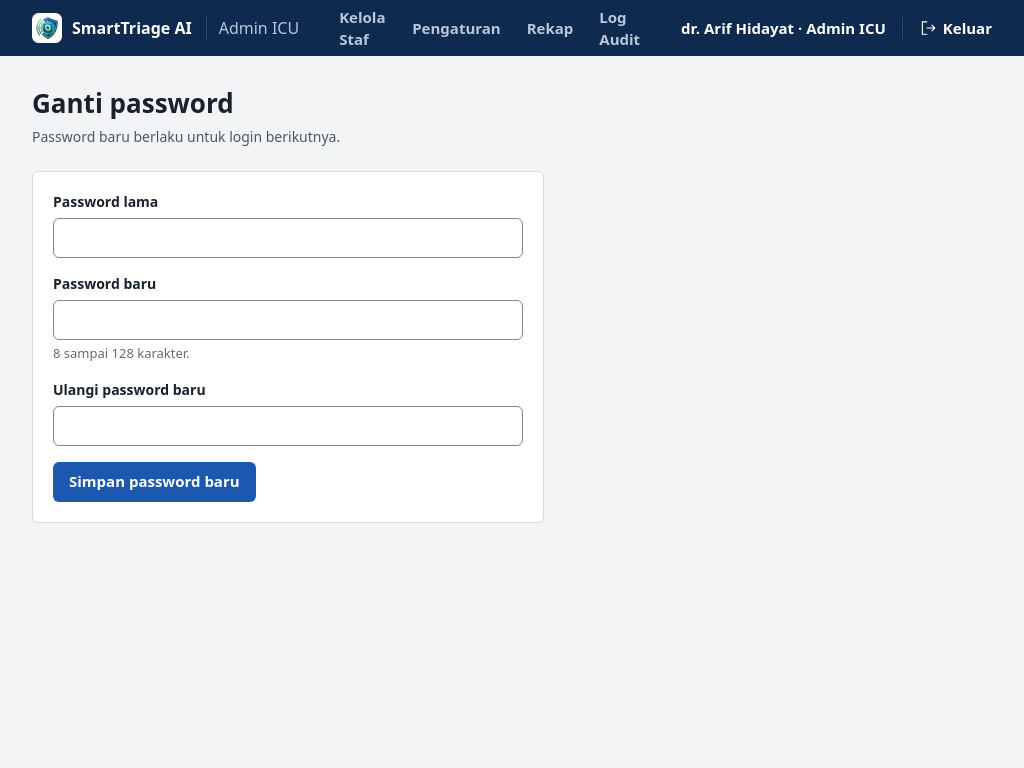
Test case: Ganti password › password baru harus berbeda dari yang lama
The width and height of the screenshot is (1024, 768).
In the password field labelled "Password lama": (288, 238) [53,218,523,258], type "sama12345"
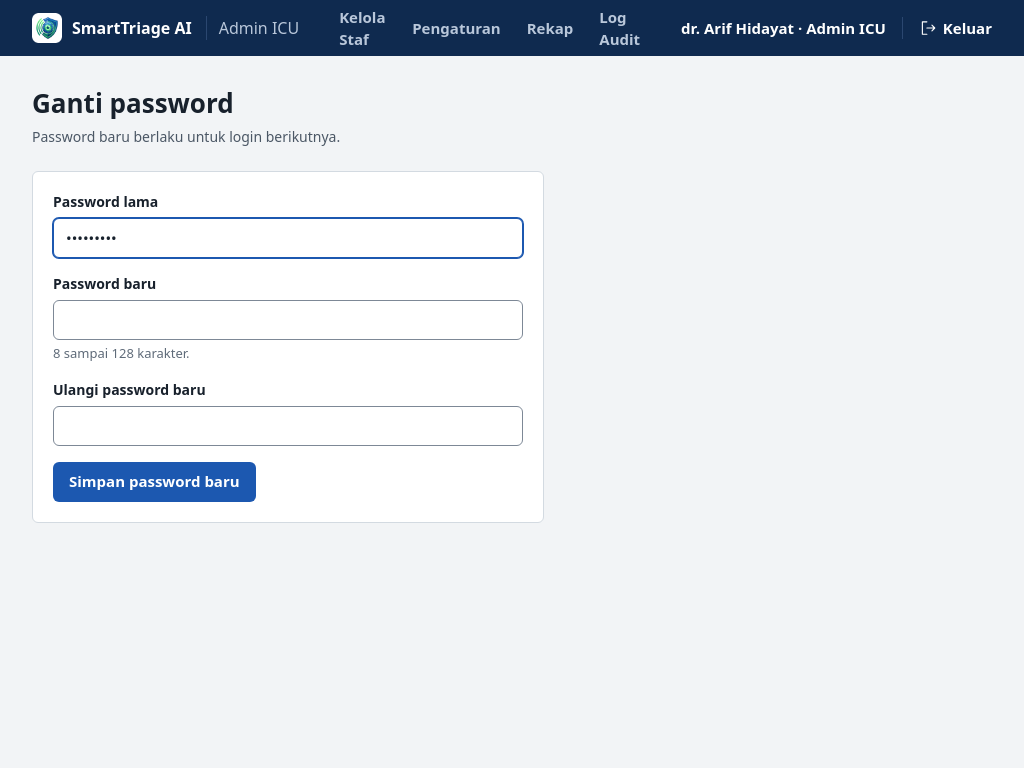
In the password field labelled "Password baru": (288, 320) [53,300,523,340], type "sama12345"
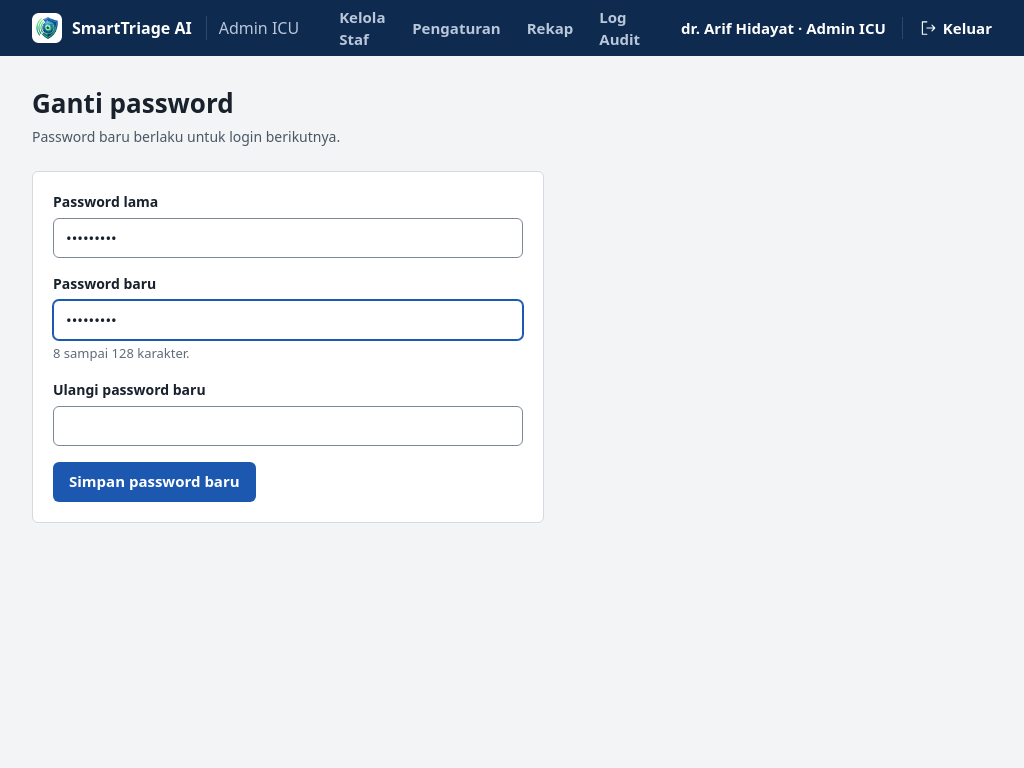
In the password field labelled "Ulangi password baru": (288, 426) [53,406,523,446], type "sama12345"
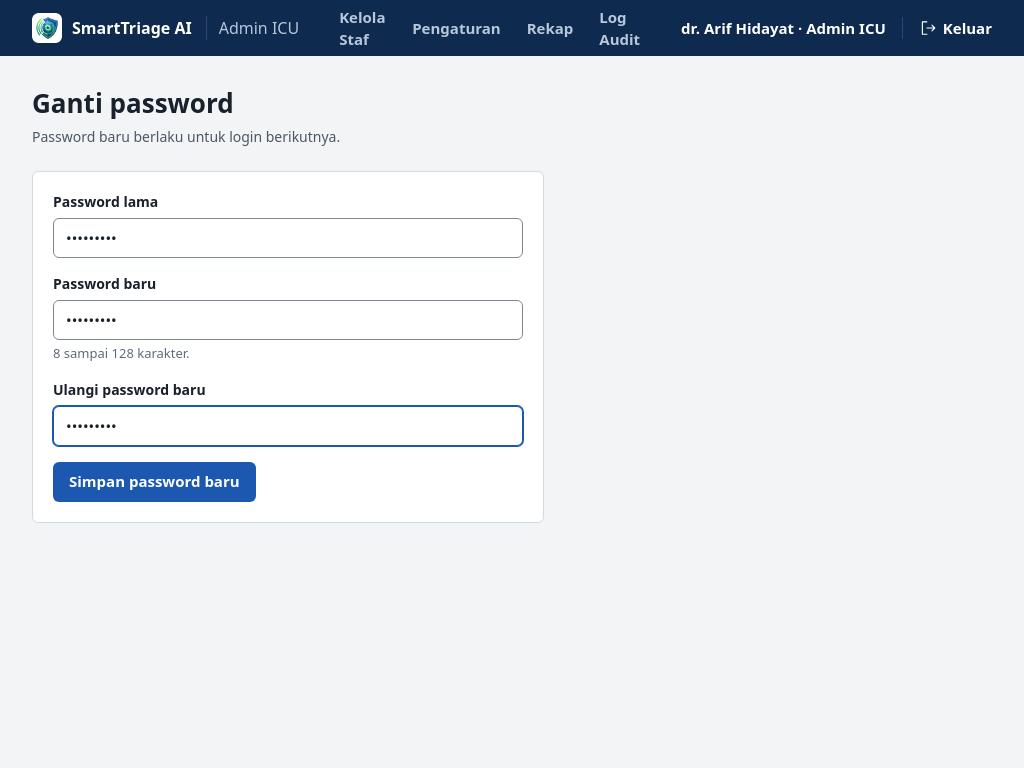
Click the button "Simpan password baru": (154, 482) [53,462,256,502]
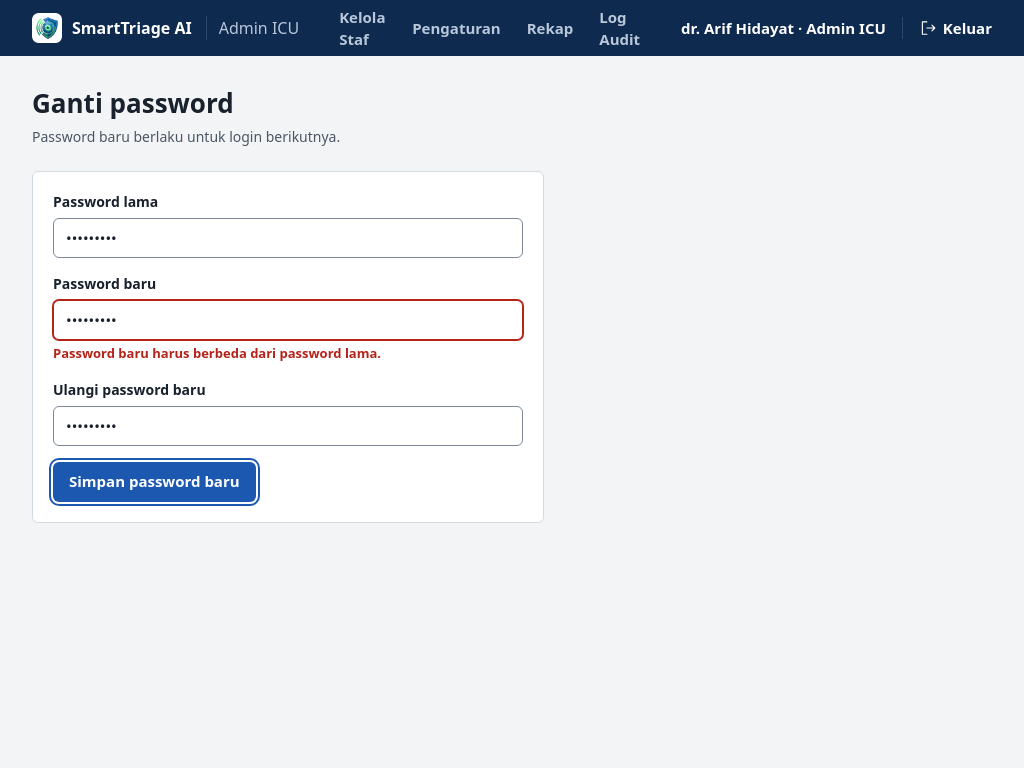
Check: the text "Password baru harus berbeda dari password lama." is shown, box [53,344,381,362]
